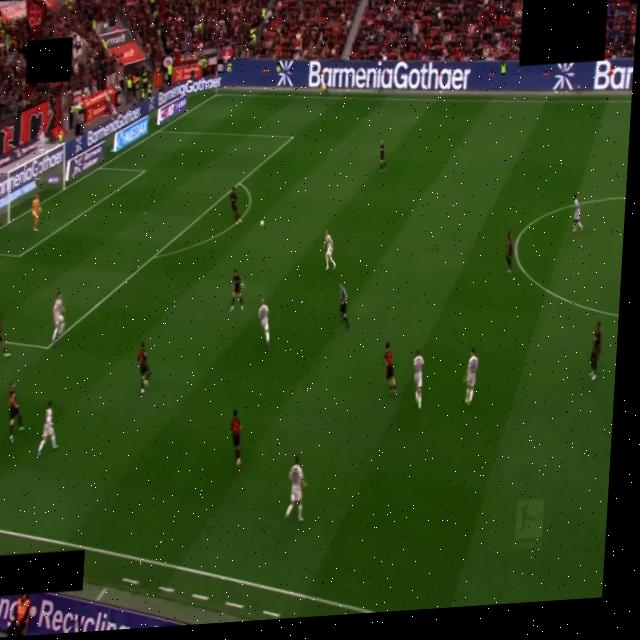ball: (260, 221, 264, 227)
player: (285, 457, 306, 521), (37, 402, 57, 457), (8, 383, 23, 442), (464, 349, 478, 406), (51, 292, 65, 344), (589, 322, 601, 381), (413, 351, 424, 409), (137, 342, 149, 393), (230, 411, 241, 466), (385, 343, 396, 395), (258, 299, 270, 346), (230, 270, 243, 311), (324, 230, 336, 270), (31, 194, 43, 233), (0, 313, 10, 357), (230, 187, 241, 224), (572, 195, 582, 232), (506, 230, 513, 274), (379, 140, 386, 172), (37, 129, 46, 152)
referee: (339, 283, 348, 327)
